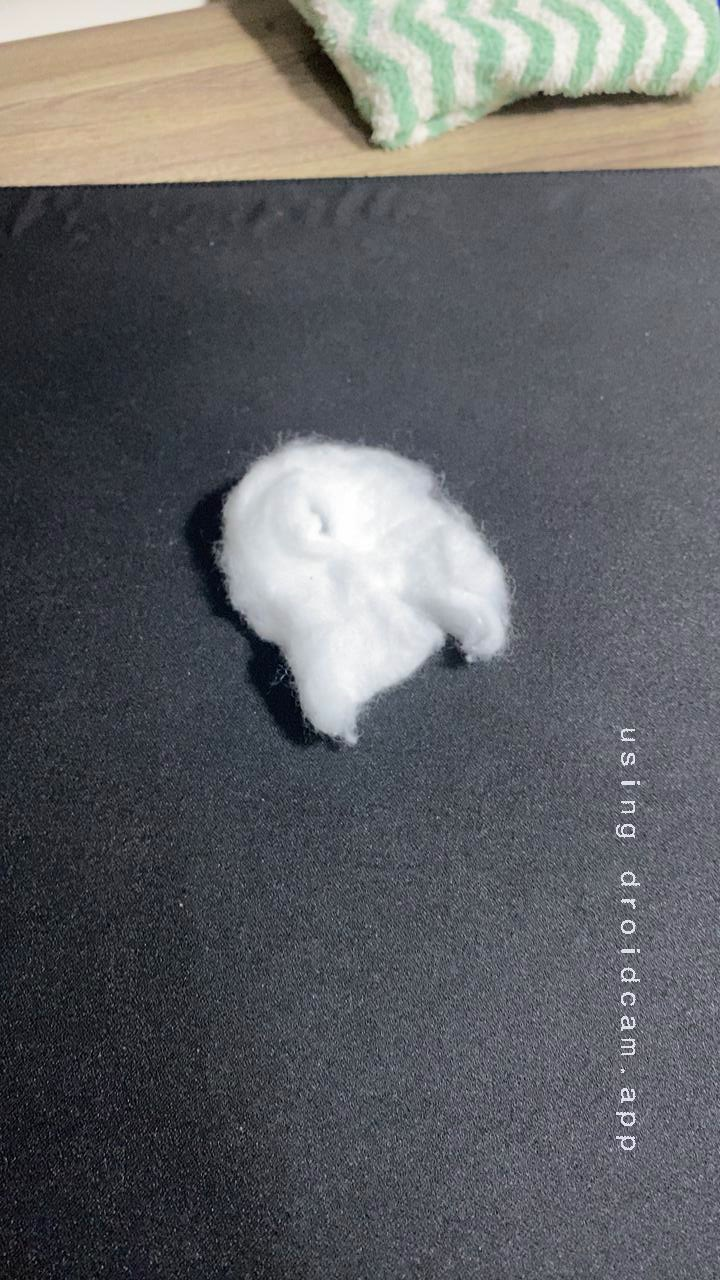cotton: (172, 420, 529, 757)
